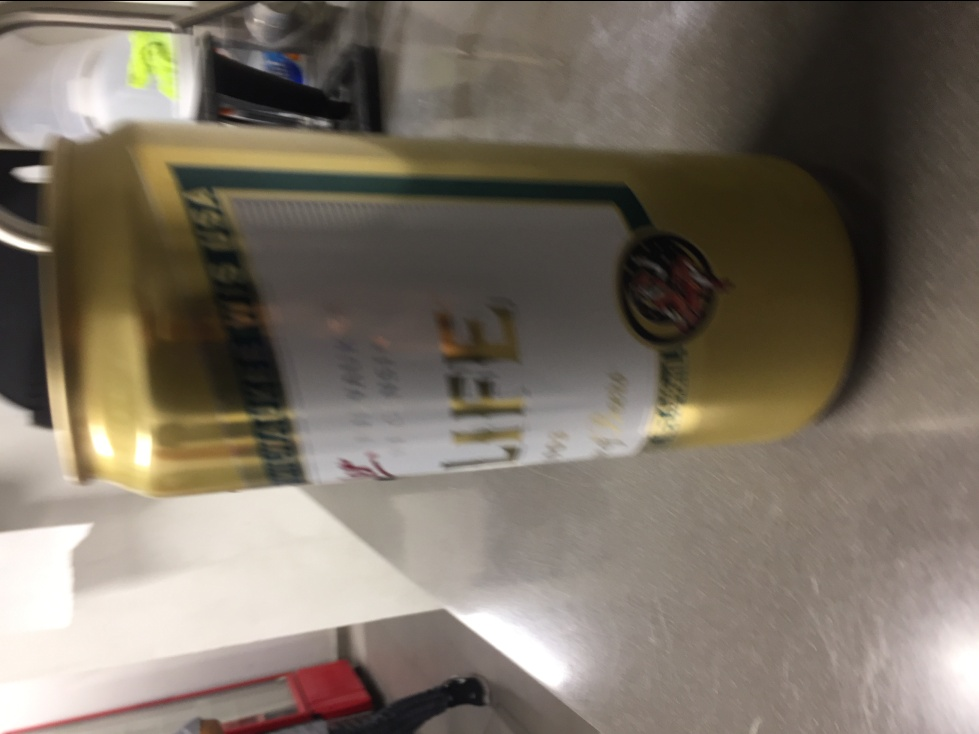miller: (39, 119, 874, 498)
